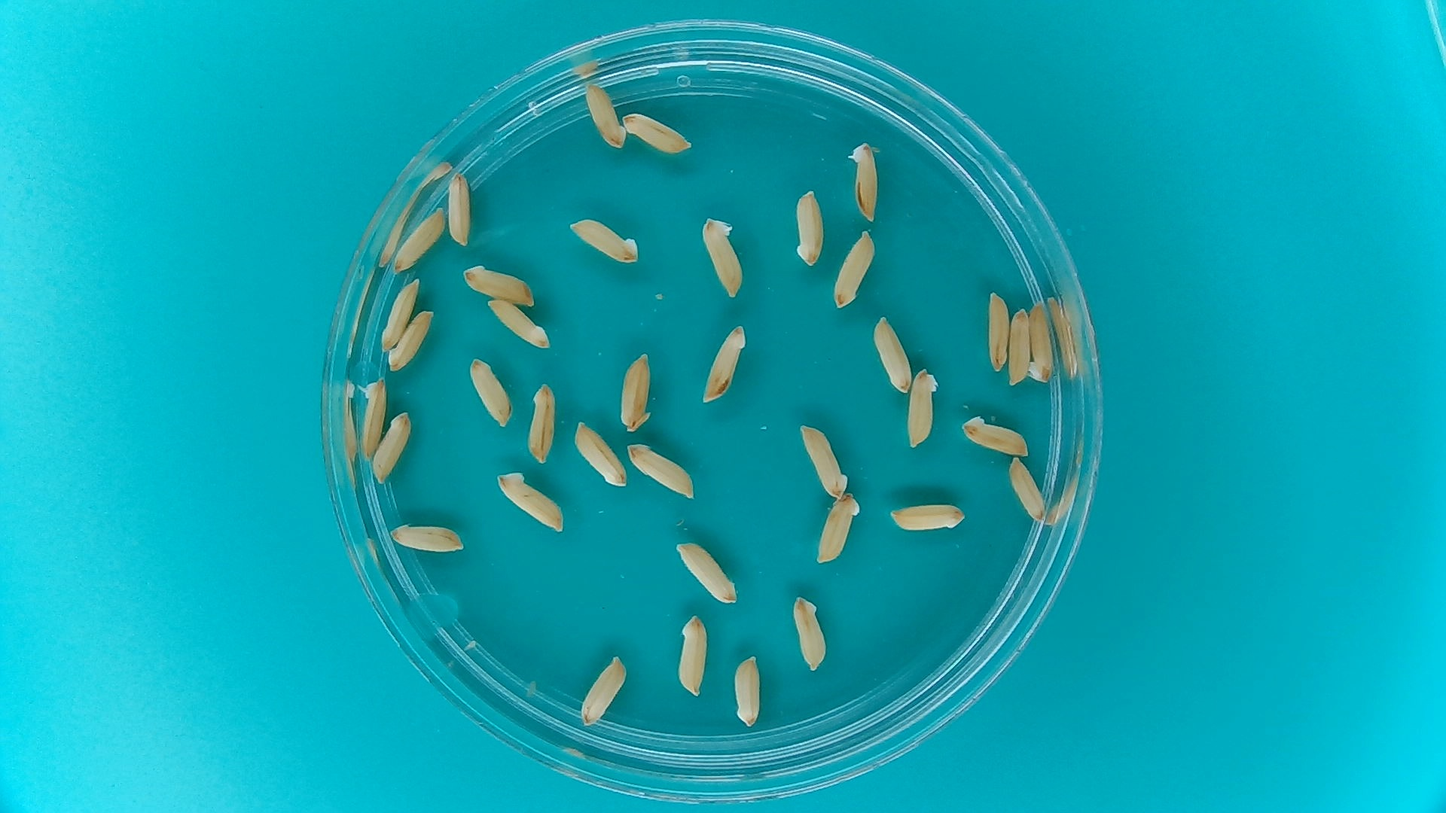no: (495, 470, 569, 534), (673, 538, 740, 605), (624, 440, 697, 501), (386, 304, 435, 391), (697, 214, 745, 302), (699, 321, 748, 407), (796, 419, 848, 500), (576, 652, 628, 728), (830, 227, 877, 311), (390, 204, 447, 273), (571, 419, 627, 488), (565, 215, 642, 265), (813, 491, 862, 568), (620, 107, 695, 155), (486, 297, 553, 350), (789, 592, 831, 676), (580, 78, 627, 152), (467, 354, 514, 428), (872, 313, 914, 395), (369, 410, 413, 486), (462, 263, 537, 307), (379, 276, 422, 351), (959, 413, 1032, 457), (674, 611, 709, 700), (617, 349, 653, 434), (1005, 454, 1048, 525), (791, 185, 826, 272), (904, 365, 939, 451), (887, 498, 968, 535), (386, 519, 466, 555), (526, 379, 558, 465), (731, 650, 764, 728), (1028, 297, 1056, 384), (446, 168, 474, 248), (984, 288, 1010, 374), (1007, 303, 1032, 387)
yes: (845, 138, 883, 224), (356, 376, 387, 459)
